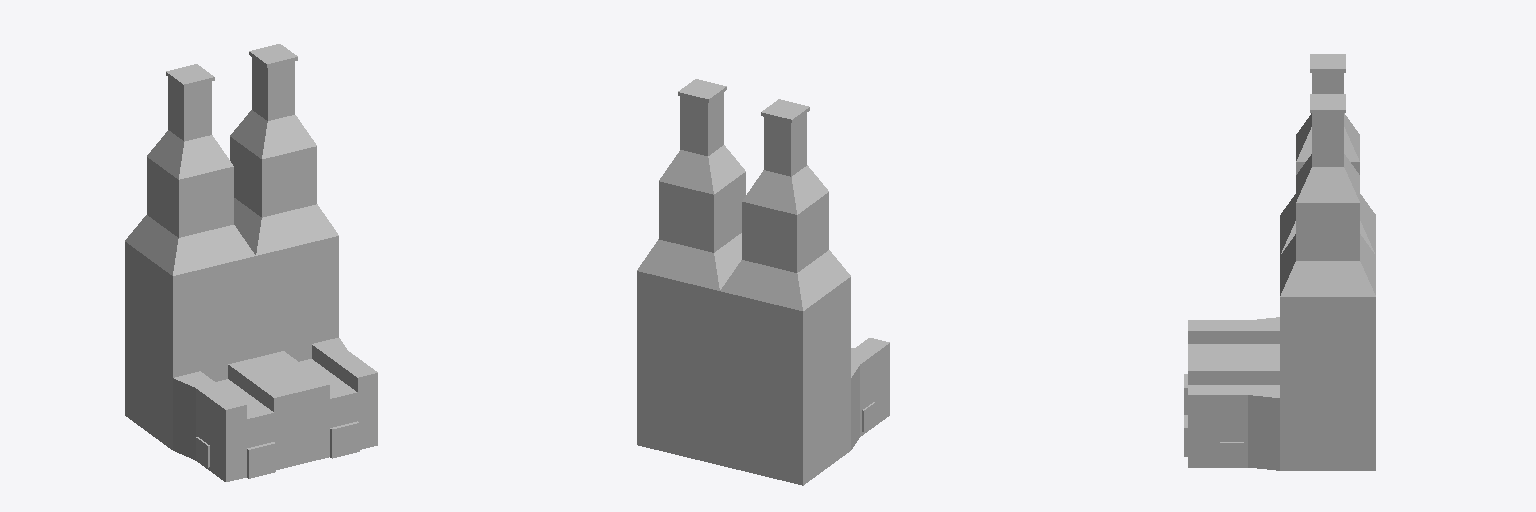
The model's file is reverberation_furnace_mirrored.obj.
3 views of the same model, side by side, from view 1: azimuth 30°, elevation 25°; view 2: azimuth 150°, elevation 25°; view 3: azimuth 270°, elevation 25° (orthographic).
Visible parts, largest first — view 1: Furnace.002_Cube.297; view 2: Furnace.002_Cube.297; view 3: Furnace.002_Cube.297.
Part boxes in pixels (x1,y1,x2,y2): Furnace.002_Cube.297: (125,44,377,481); Furnace.002_Cube.297: (637,79,889,485); Furnace.002_Cube.297: (1184,54,1375,470).
Bounding box in the file's own units: 6 × 12 × 6.